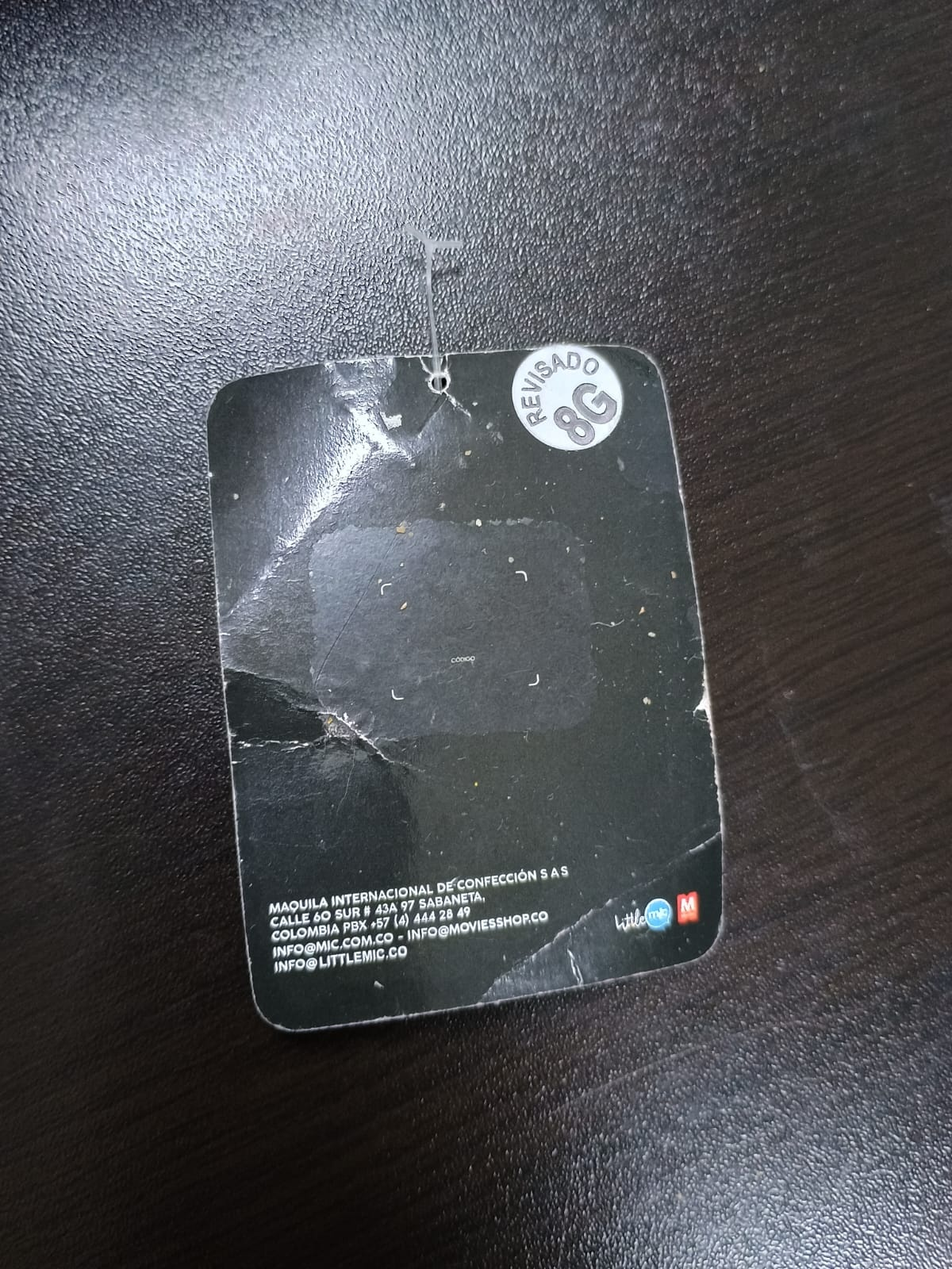Ordinario: (205, 342, 726, 1039)
